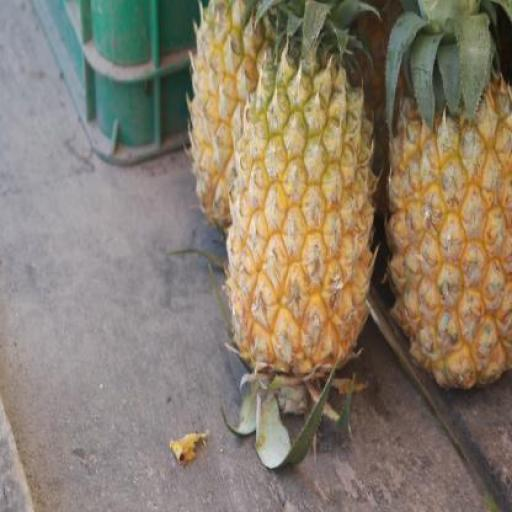Pineapple - v8 v1: (229, 56, 374, 380), (387, 70, 511, 393), (190, 0, 288, 234)
